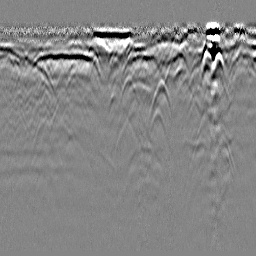cavity: (117, 73, 141, 112)
